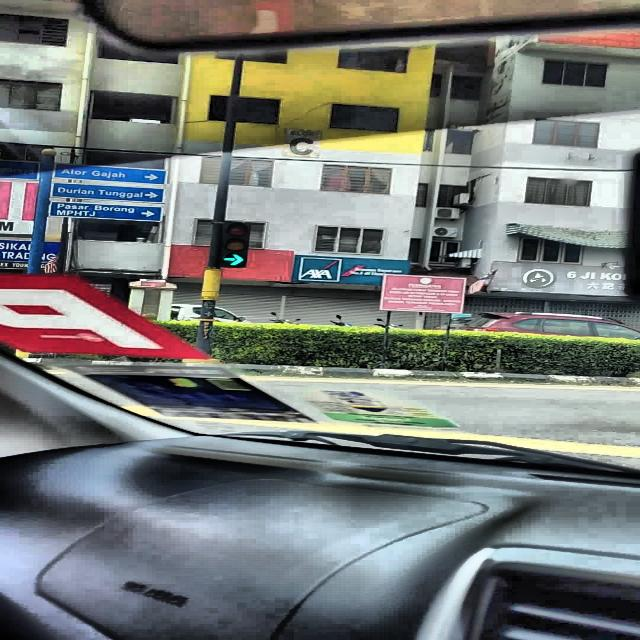green: (216, 223, 252, 266)
